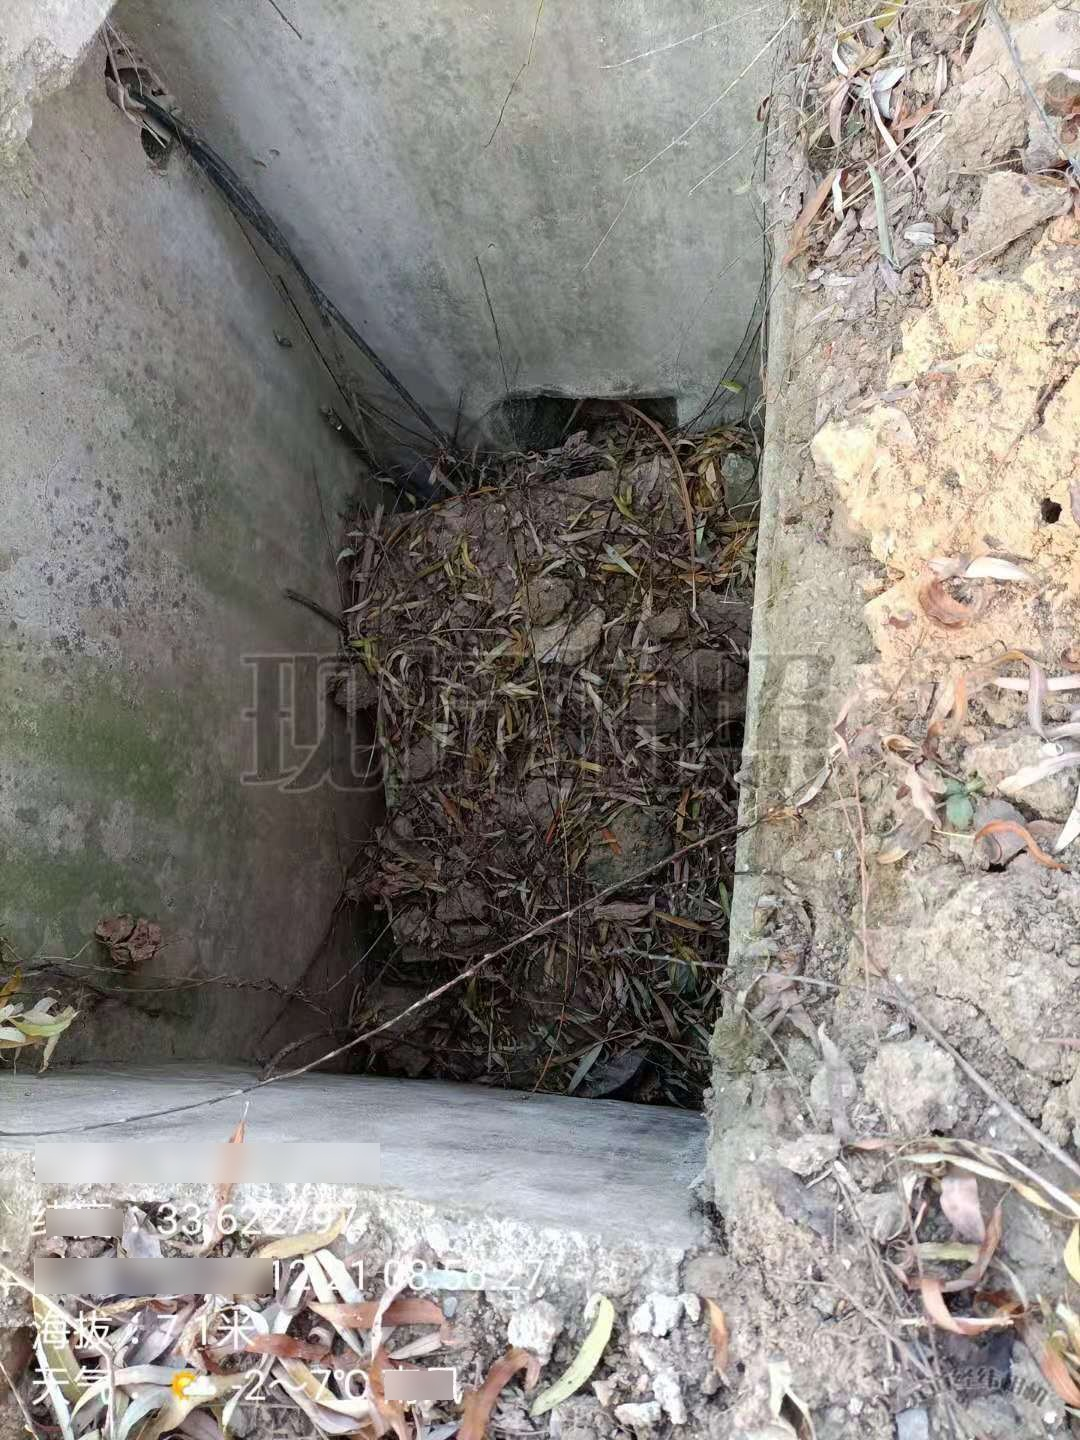lose: (16, 27, 896, 1335)
